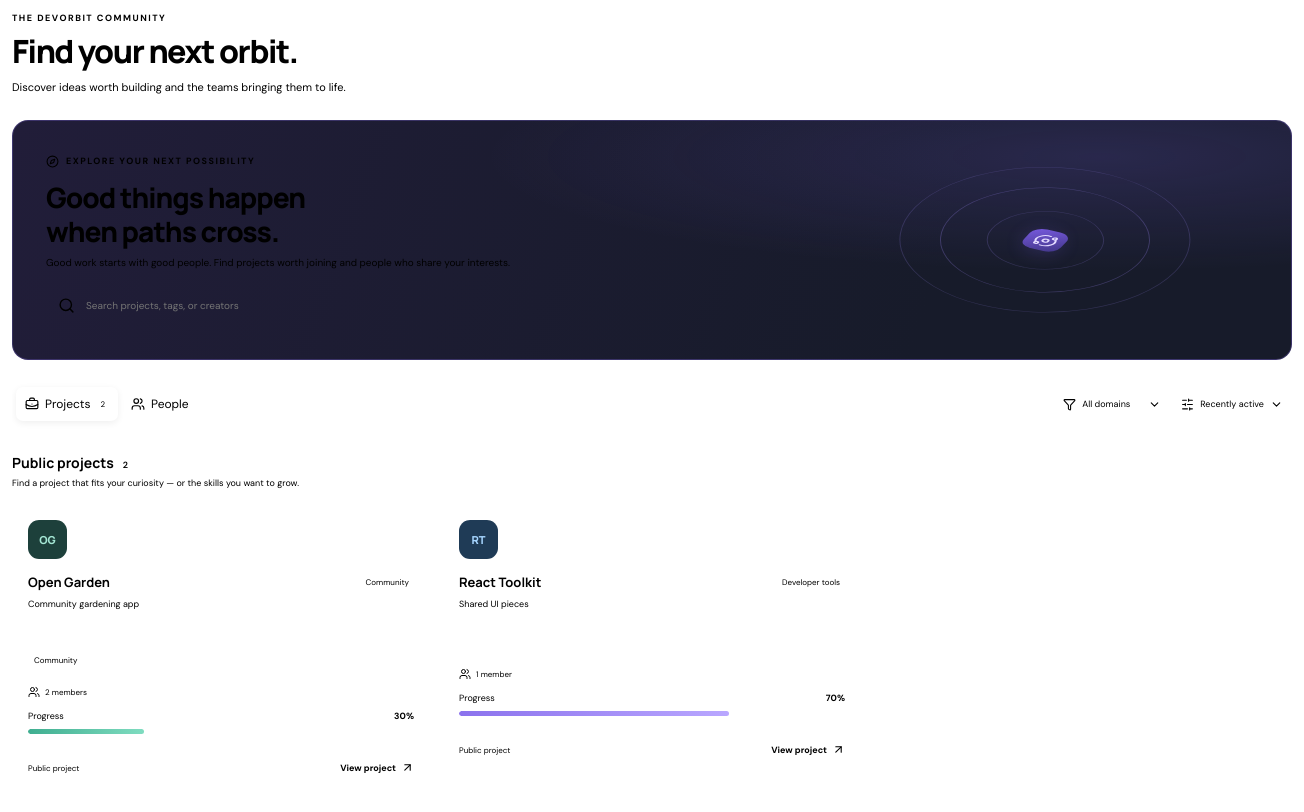
Scenario: Discover with real data: people › loads discoverable people from the API
This screenshot has width=1304, height=812.
Expected: the heading "Open Garden" is shown, left=28, top=573, right=110, bottom=591
Click the button "People" at {"x": 160, "y": 404}, box left=122, top=387, right=198, bottom=421
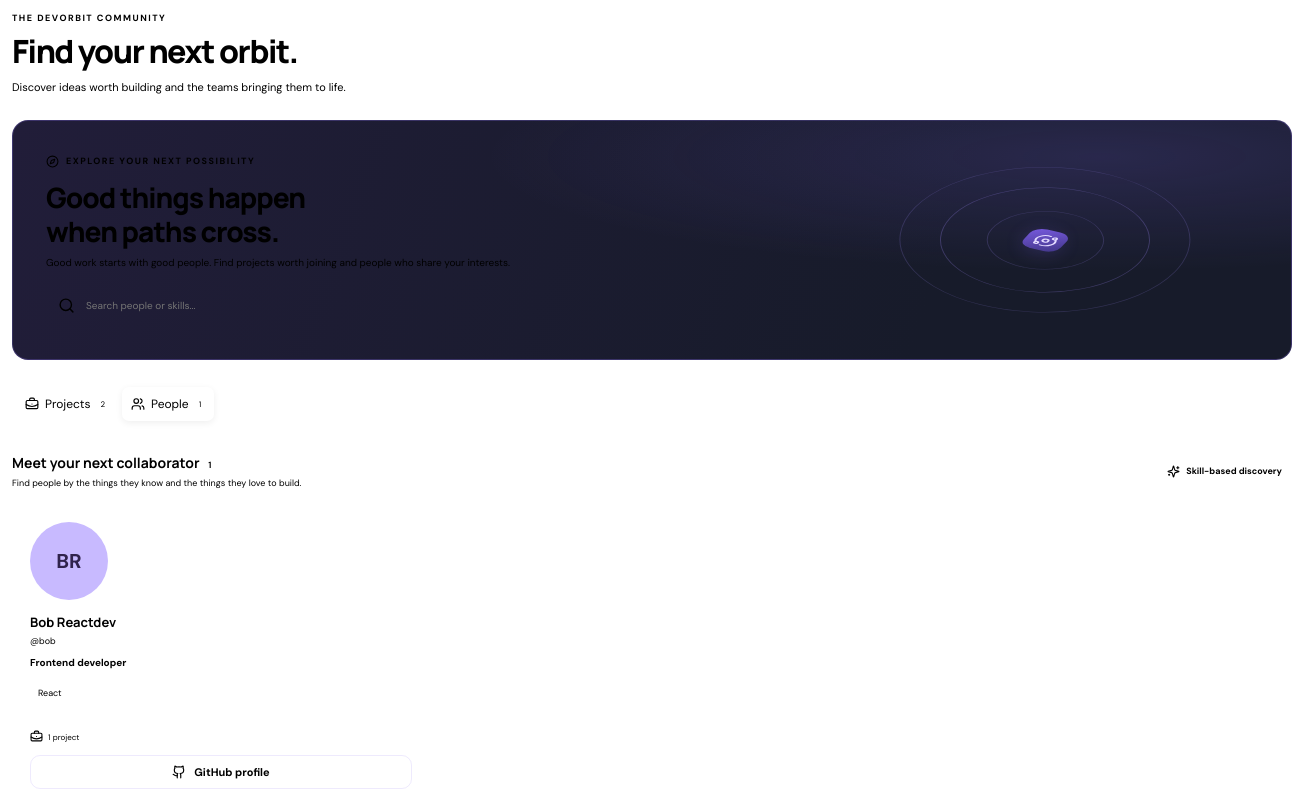
Expected: the heading "Bob Reactdev" is shown, left=30, top=613, right=116, bottom=631
Expected: the text "@bob" is shown, left=30, top=635, right=56, bottom=647
Expected: the text "Frontend developer" is shown, left=30, top=656, right=126, bottom=669
